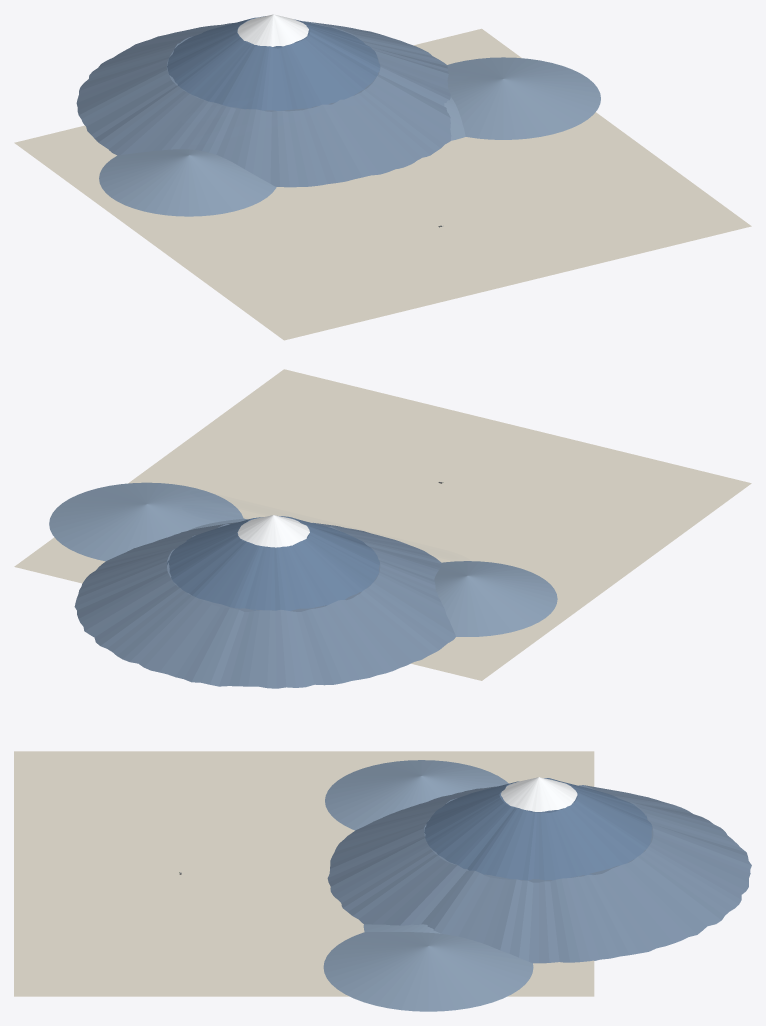
The model's file is Fuji_McDonalds_day.glb.
3 views of the same model, one above another, from view 1: azimuth 30°, elevation 25°; view 2: azimuth 150°, elevation 25°; view 3: azimuth 270°, elevation 25° (orthographic). The views are drawn at different scales.
Parts seen in each view (by area): view 1: Ground_wet_asphalt_foreground, Fuji_foothill_below_mist, Fuji_slope_above_mist, Far_hill_silhouette_04, Far_hill_silhouette_01, Fuji_snowcap_upper_cone; view 2: Ground_wet_asphalt_foreground, Fuji_foothill_below_mist, Fuji_slope_above_mist, Far_hill_silhouette_04, Far_hill_silhouette_01, Fuji_snowcap_upper_cone; view 3: Ground_wet_asphalt_foreground, Fuji_foothill_below_mist, Fuji_slope_above_mist, Far_hill_silhouette_04, Far_hill_silhouette_01, Fuji_snowcap_upper_cone, Far_hill_silhouette_03.
Boxes of the visible parts, x1,y1,x2,y2 form: Ground_wet_asphalt_foreground: [14, 28, 751, 340]; Fuji_foothill_below_mist: [76, 21, 451, 187]; Fuji_slope_above_mist: [167, 16, 379, 110]; Far_hill_silhouette_04: [447, 57, 600, 139]; Far_hill_silhouette_01: [99, 149, 276, 216]; Fuji_snowcap_upper_cone: [237, 14, 308, 46]; Ground_wet_asphalt_foreground: [14, 369, 751, 680]; Fuji_foothill_below_mist: [74, 522, 455, 688]; Fuji_slope_above_mist: [167, 516, 379, 610]; Far_hill_silhouette_04: [49, 482, 243, 561]; Far_hill_silhouette_01: [434, 561, 557, 636]; Fuji_snowcap_upper_cone: [237, 515, 309, 547]; Ground_wet_asphalt_foreground: [14, 751, 594, 996]; Fuji_foothill_below_mist: [327, 785, 751, 963]; Fuji_slope_above_mist: [424, 778, 652, 880]; Far_hill_silhouette_04: [323, 932, 533, 1011]; Far_hill_silhouette_01: [325, 760, 508, 830]; Fuji_snowcap_upper_cone: [501, 777, 577, 811]; Far_hill_silhouette_03: [363, 924, 441, 933].
Bounding box in the file's own units: 4460 × 777 × 5341.
